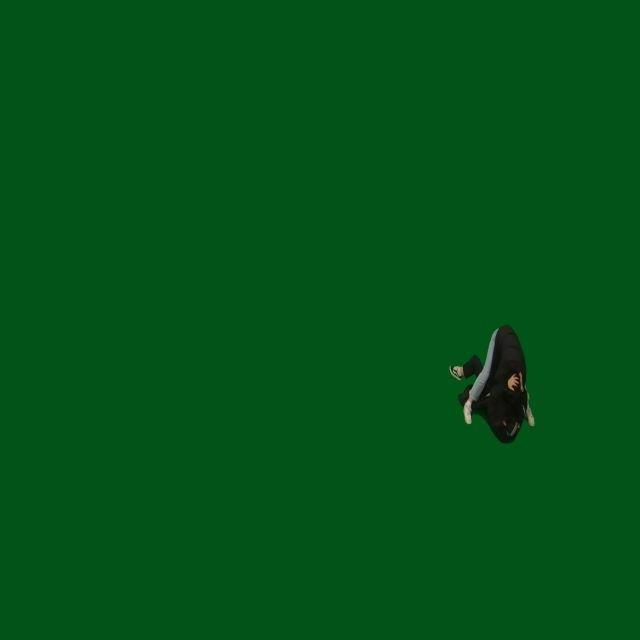fight: (447, 324, 535, 446)
